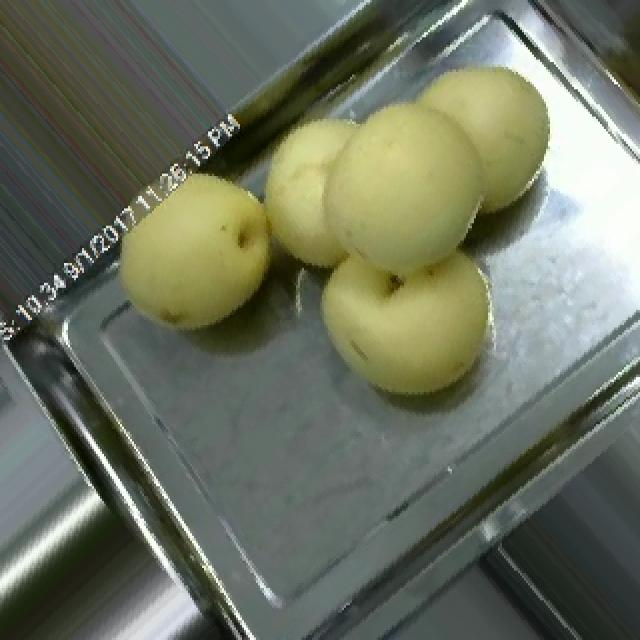Fruit: (232, 40, 572, 302), (88, 141, 296, 350), (298, 231, 510, 419)
